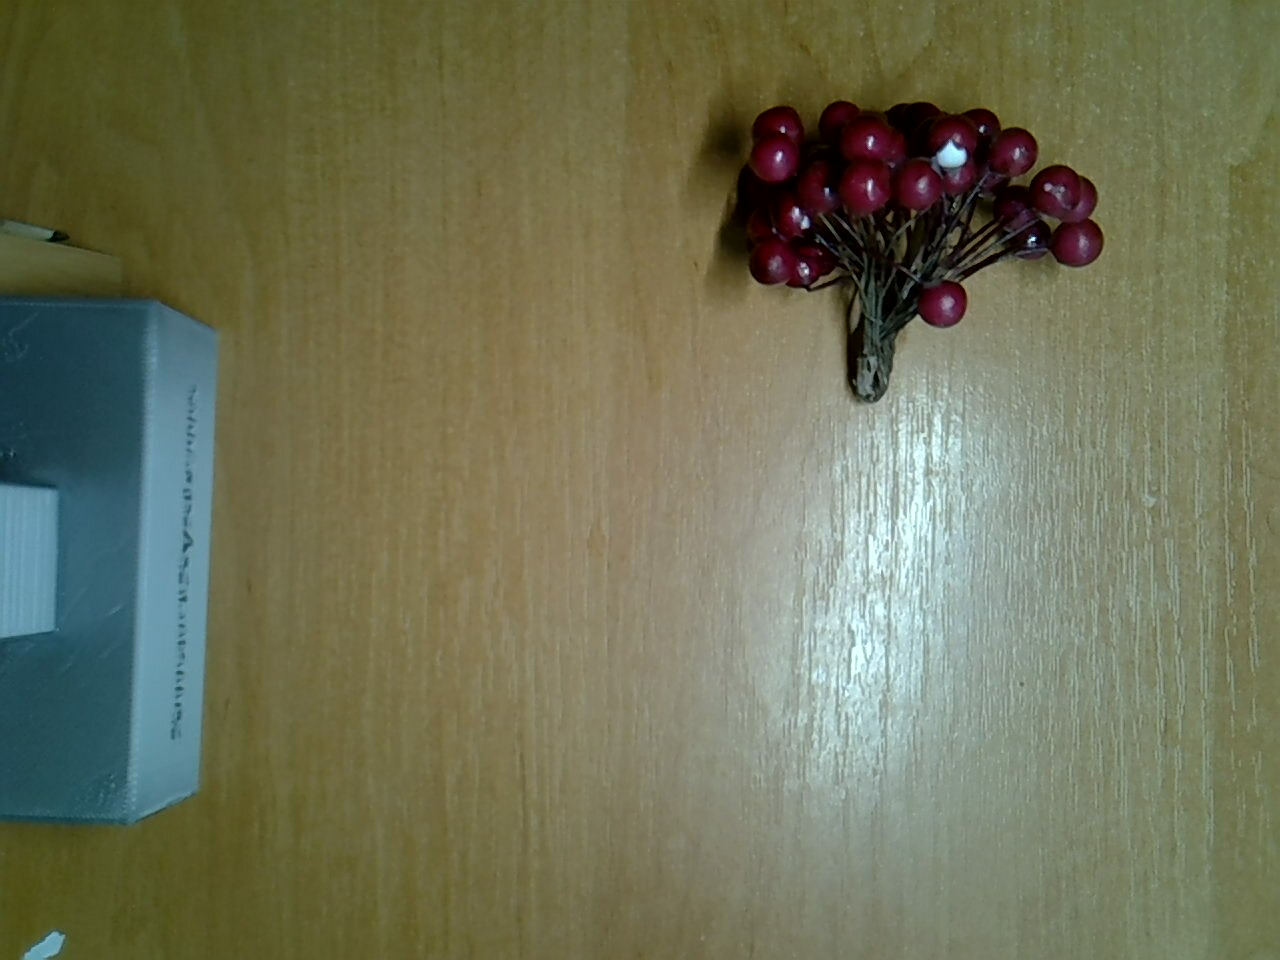berries: (734, 87, 1108, 406)
